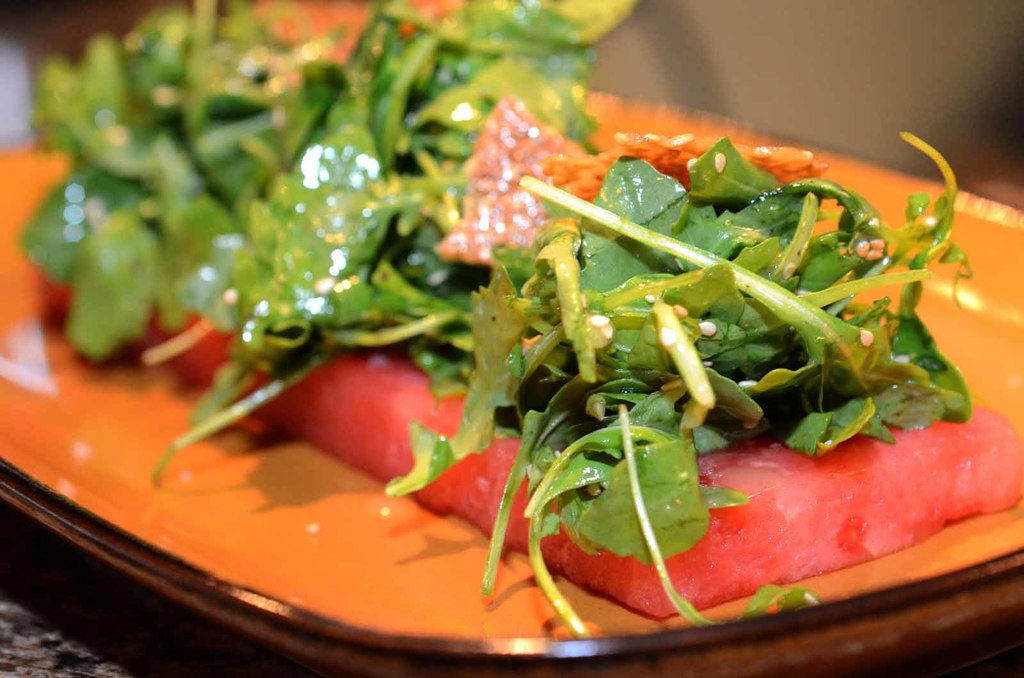salad: (5, 0, 976, 633)
